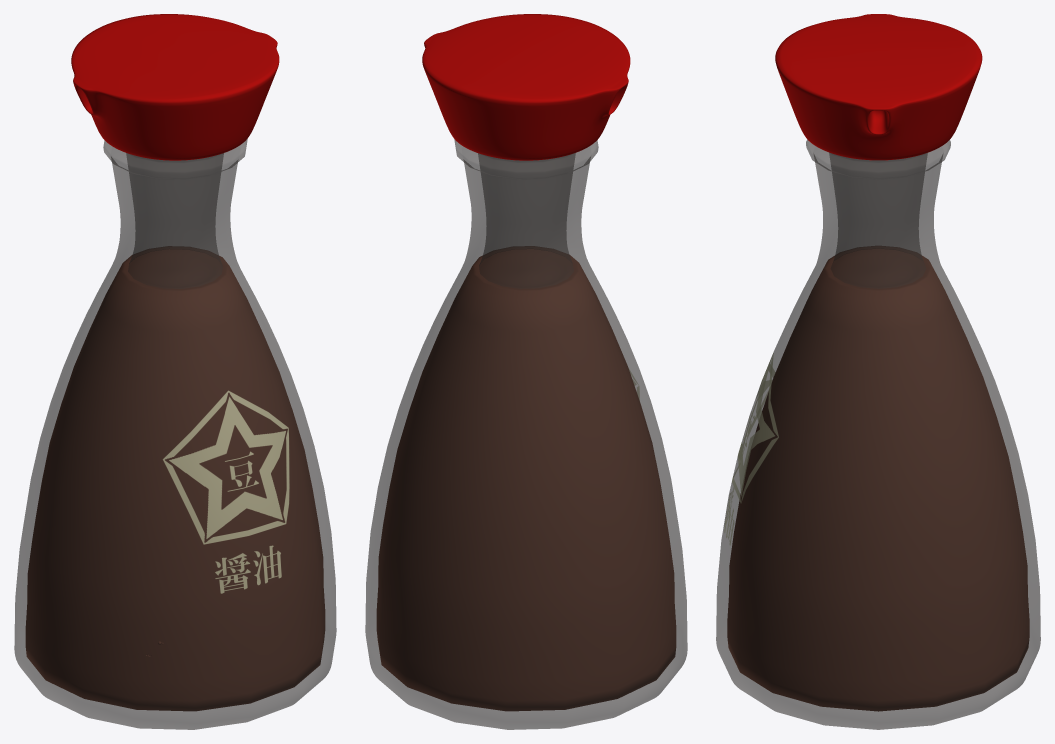
Rendered from soy_sauce.glb.
The picture shows the model from 3 angles, left to right: view 1: azimuth 30°, elevation 25°; view 2: azimuth 150°, elevation 25°; view 3: azimuth 270°, elevation 25°; orthographic projection.
Parts seen in each view (by area): view 1: glass.001, syouyu, CAP, Lavel; view 2: glass.001, syouyu, CAP; view 3: glass.001, syouyu, CAP, Lavel.
Boxes of the visible parts, bbox=[...] form: glass.001: bbox=[14, 139, 336, 729]; syouyu: bbox=[25, 246, 325, 711]; CAP: bbox=[71, 14, 279, 160]; Lavel: bbox=[163, 390, 289, 593]; glass.001: bbox=[365, 139, 687, 729]; syouyu: bbox=[376, 246, 676, 711]; CAP: bbox=[422, 14, 630, 160]; glass.001: bbox=[716, 139, 1040, 729]; syouyu: bbox=[727, 246, 1029, 711]; CAP: bbox=[775, 14, 982, 160]; Lavel: bbox=[724, 352, 778, 545].
Size of the model in its own units: 0.0695 by 0.1474 by 0.0695.
7 materials, 1 textured.
